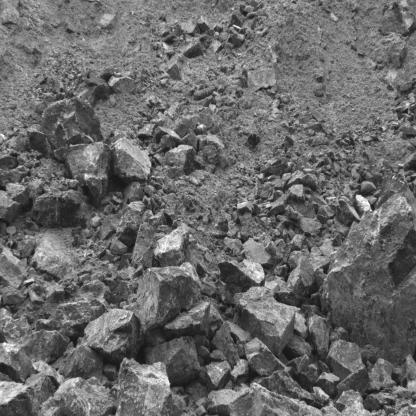stone: (326, 173, 416, 360), (115, 358, 196, 416), (135, 262, 202, 332), (233, 286, 296, 356), (207, 382, 323, 416), (81, 308, 145, 363), (53, 142, 110, 201), (37, 376, 119, 416), (42, 99, 103, 148), (144, 335, 200, 386), (35, 298, 107, 337), (51, 378, 117, 416), (0, 371, 54, 416), (31, 192, 91, 230), (98, 201, 146, 241), (110, 138, 152, 183), (163, 302, 211, 338), (154, 220, 190, 267), (257, 370, 312, 400), (326, 340, 366, 381), (244, 337, 286, 376), (219, 260, 265, 292), (58, 346, 102, 379), (25, 330, 67, 364), (211, 322, 240, 369), (291, 250, 318, 297), (132, 222, 158, 270), (0, 308, 31, 347), (0, 343, 30, 383), (288, 356, 321, 392), (164, 145, 206, 172), (0, 247, 28, 286), (243, 238, 278, 268), (337, 368, 371, 398), (308, 313, 329, 358), (116, 212, 142, 248), (205, 360, 231, 393), (0, 191, 24, 224), (368, 360, 395, 389), (363, 391, 397, 414), (336, 198, 362, 224), (230, 359, 254, 387), (284, 335, 312, 359), (154, 126, 184, 148), (105, 283, 135, 304), (336, 390, 363, 413), (300, 213, 327, 236), (316, 372, 340, 397), (5, 184, 30, 207), (108, 77, 136, 96), (22, 177, 43, 200), (294, 307, 309, 338), (290, 199, 315, 217), (270, 193, 289, 215), (341, 403, 372, 416), (110, 236, 129, 256), (182, 132, 200, 153), (311, 387, 330, 406), (254, 178, 272, 198), (355, 194, 372, 215), (261, 163, 288, 176), (0, 151, 18, 170), (310, 255, 332, 270), (18, 239, 36, 257), (203, 145, 219, 164), (317, 204, 336, 219), (288, 184, 305, 200), (285, 205, 303, 220), (103, 364, 117, 382), (163, 208, 177, 225), (237, 201, 254, 215), (321, 405, 341, 416), (288, 250, 300, 268), (361, 181, 376, 194), (281, 172, 291, 189), (89, 216, 101, 228), (195, 397, 208, 408), (195, 406, 206, 416)
